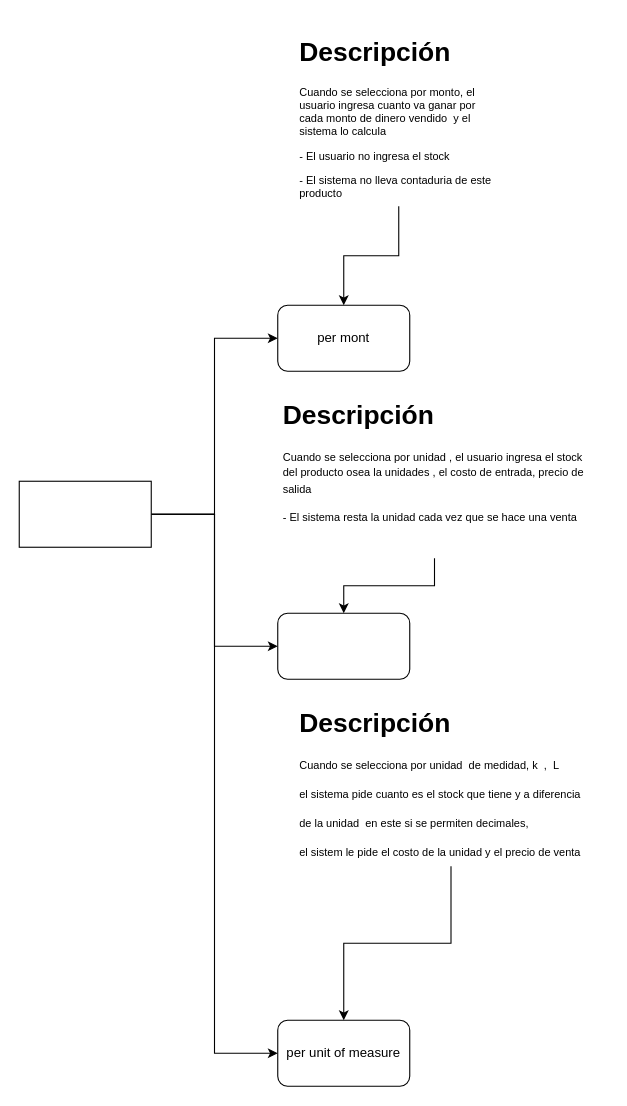
This 627x1106 diagram has some shape labels left out. Here are the shapes that lost their labels. From the top down, the centre of each, then its label:
point (84, 513): evaluations types
point (343, 645): per unity
